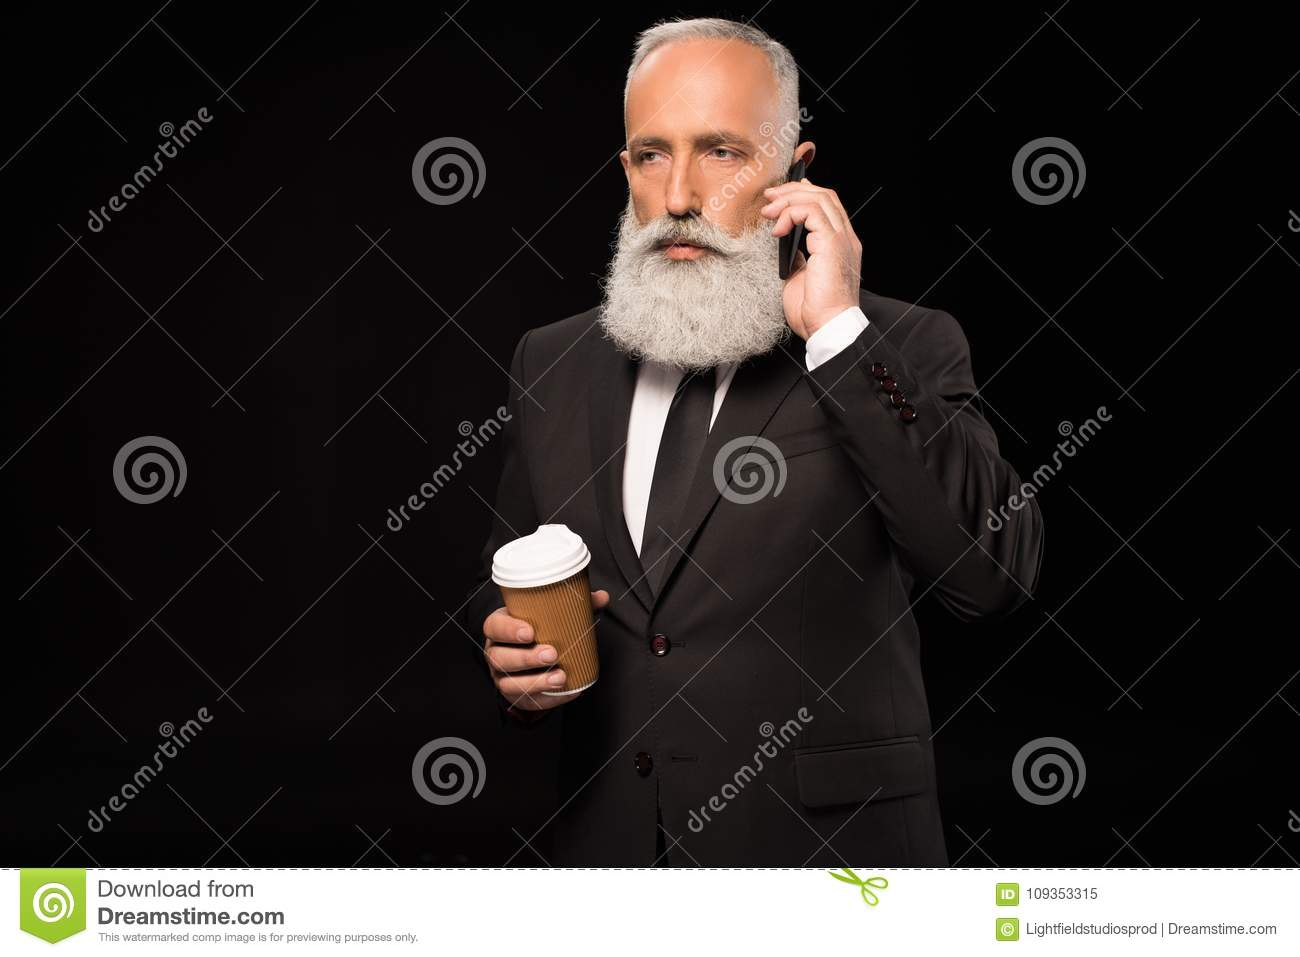phone: (777, 154, 810, 284)
talk: (629, 124, 868, 342)
